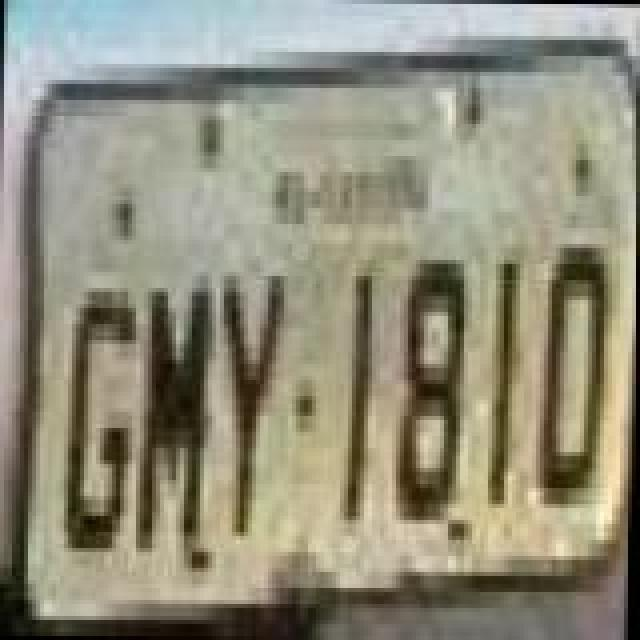1: (344, 266, 380, 526), (488, 260, 524, 516)
8: (392, 258, 476, 530)
G: (66, 282, 146, 558)
M: (138, 284, 218, 560)
O: (536, 234, 616, 510)
Y: (210, 264, 290, 540)
